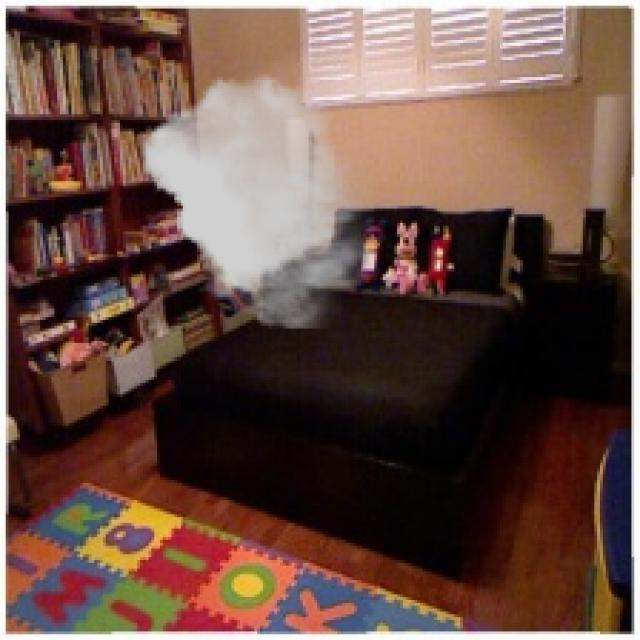smoke: (143, 74, 374, 329)
